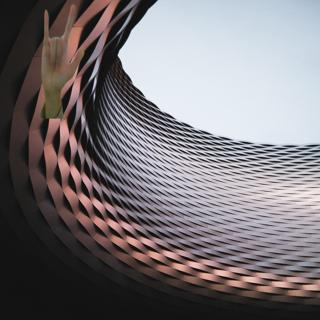ILY: (37, 2, 85, 95)
